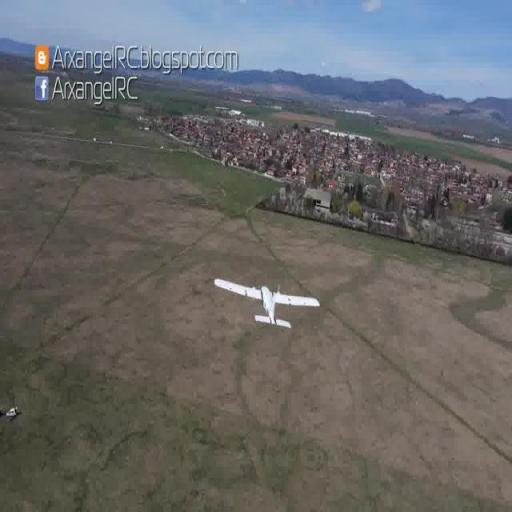uav: (210, 264, 323, 343)
